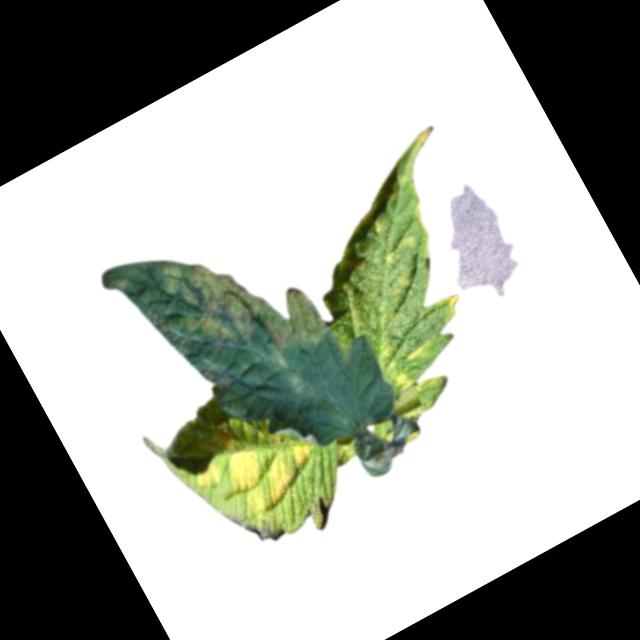Leaf_Mold: (282, 124, 560, 442), (97, 192, 333, 424), (163, 385, 328, 539)
